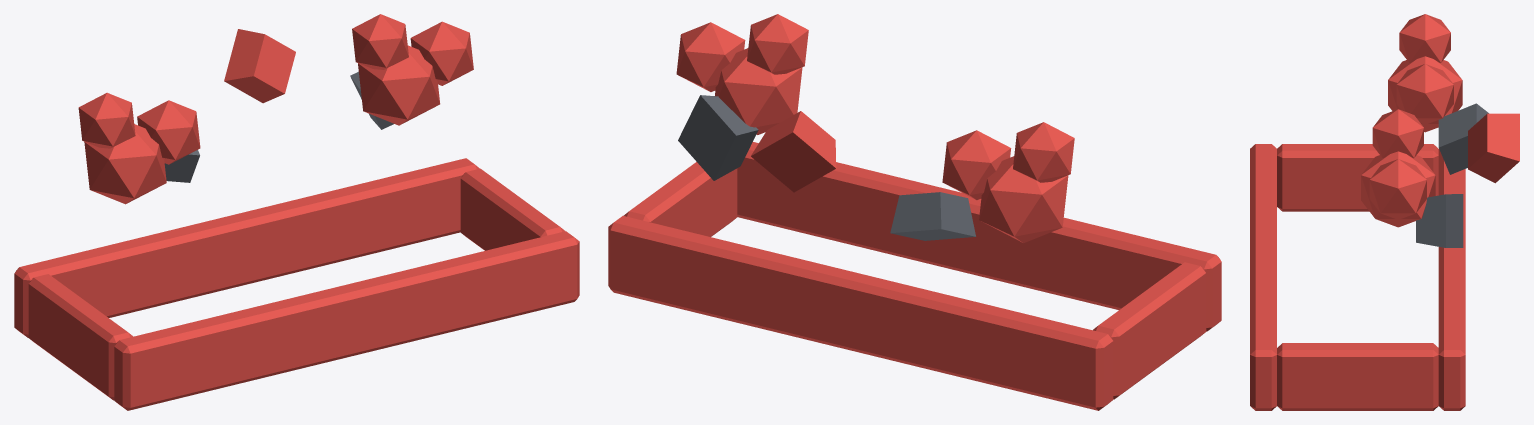
The model's file is keyboardsmash_m0_2.glb.
The picture shows the model from 3 angles, left to right: view 1: azimuth 30°, elevation 25°; view 2: azimuth 150°, elevation 25°; view 3: azimuth 270°, elevation 25°; orthographic projection. The views are drawn at different scales.
Visible parts, largest first — view 1: keyboardsmash_m0_2_mesh; view 2: keyboardsmash_m0_2_mesh; view 3: keyboardsmash_m0_2_mesh.
Boxes of the visible parts, <box> form: keyboardsmash_m0_2_mesh: <box>14,14,579,410</box>; keyboardsmash_m0_2_mesh: <box>608,14,1221,410</box>; keyboardsmash_m0_2_mesh: <box>1250,14,1519,410</box>.
Bounding box in the file's own units: 0.74 × 0.405 × 0.4004.
